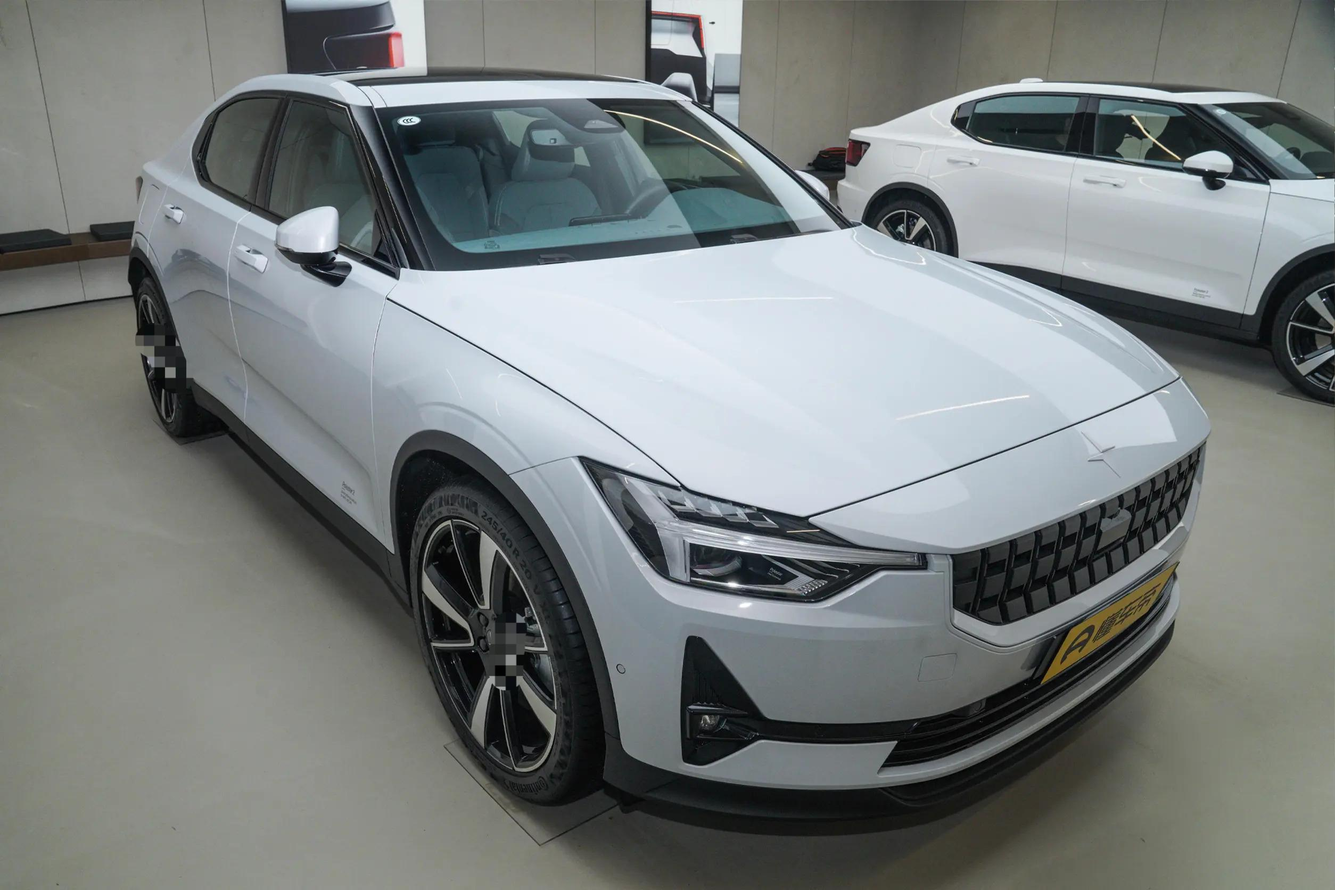Polestar: (1081, 430, 1122, 477)
